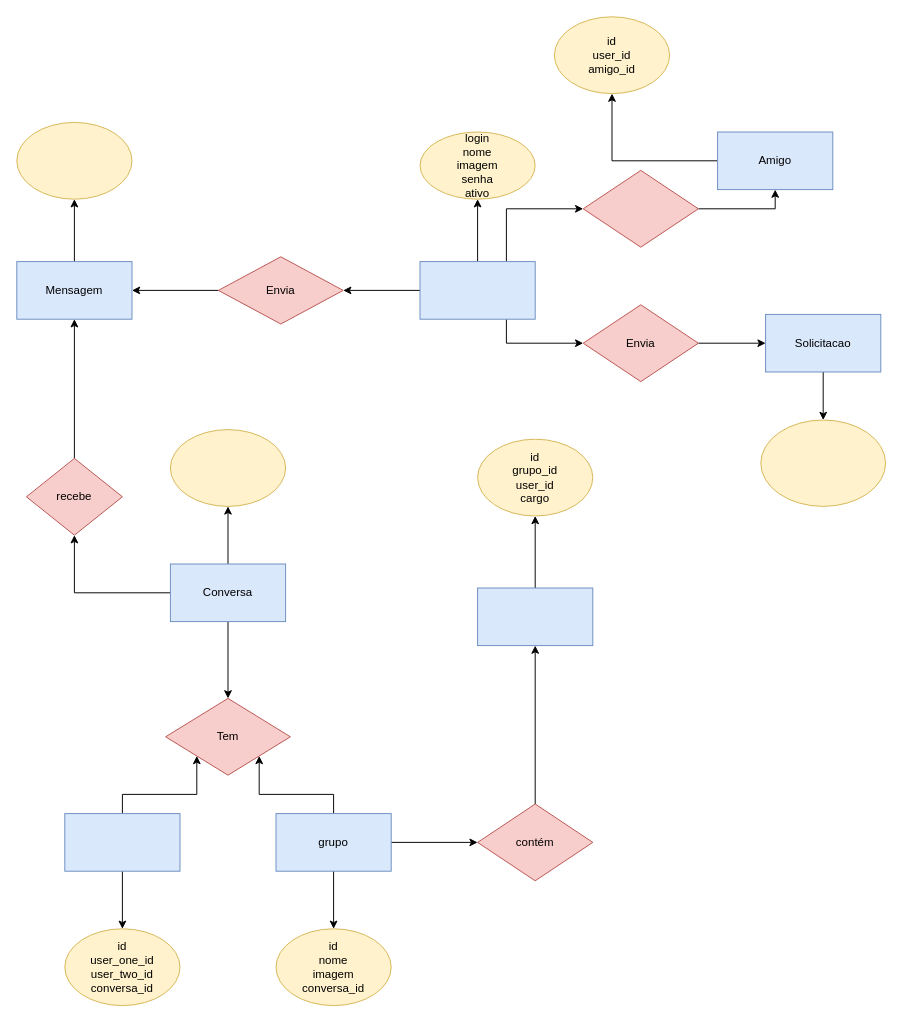
This 902x1022 diagram has some shape labels left out. Each missing label, with the centre of its shape:
id conversa_id user_remetente mensagem data: the point at 74,160
id user_remetente_id user_destinatario_id: the point at 823,462
id uuid tipo: the point at 227,467
Menbro: the point at 535,616
Possui: the point at 640,208
privado: the point at 122,842
Usuario: the point at 477,290
